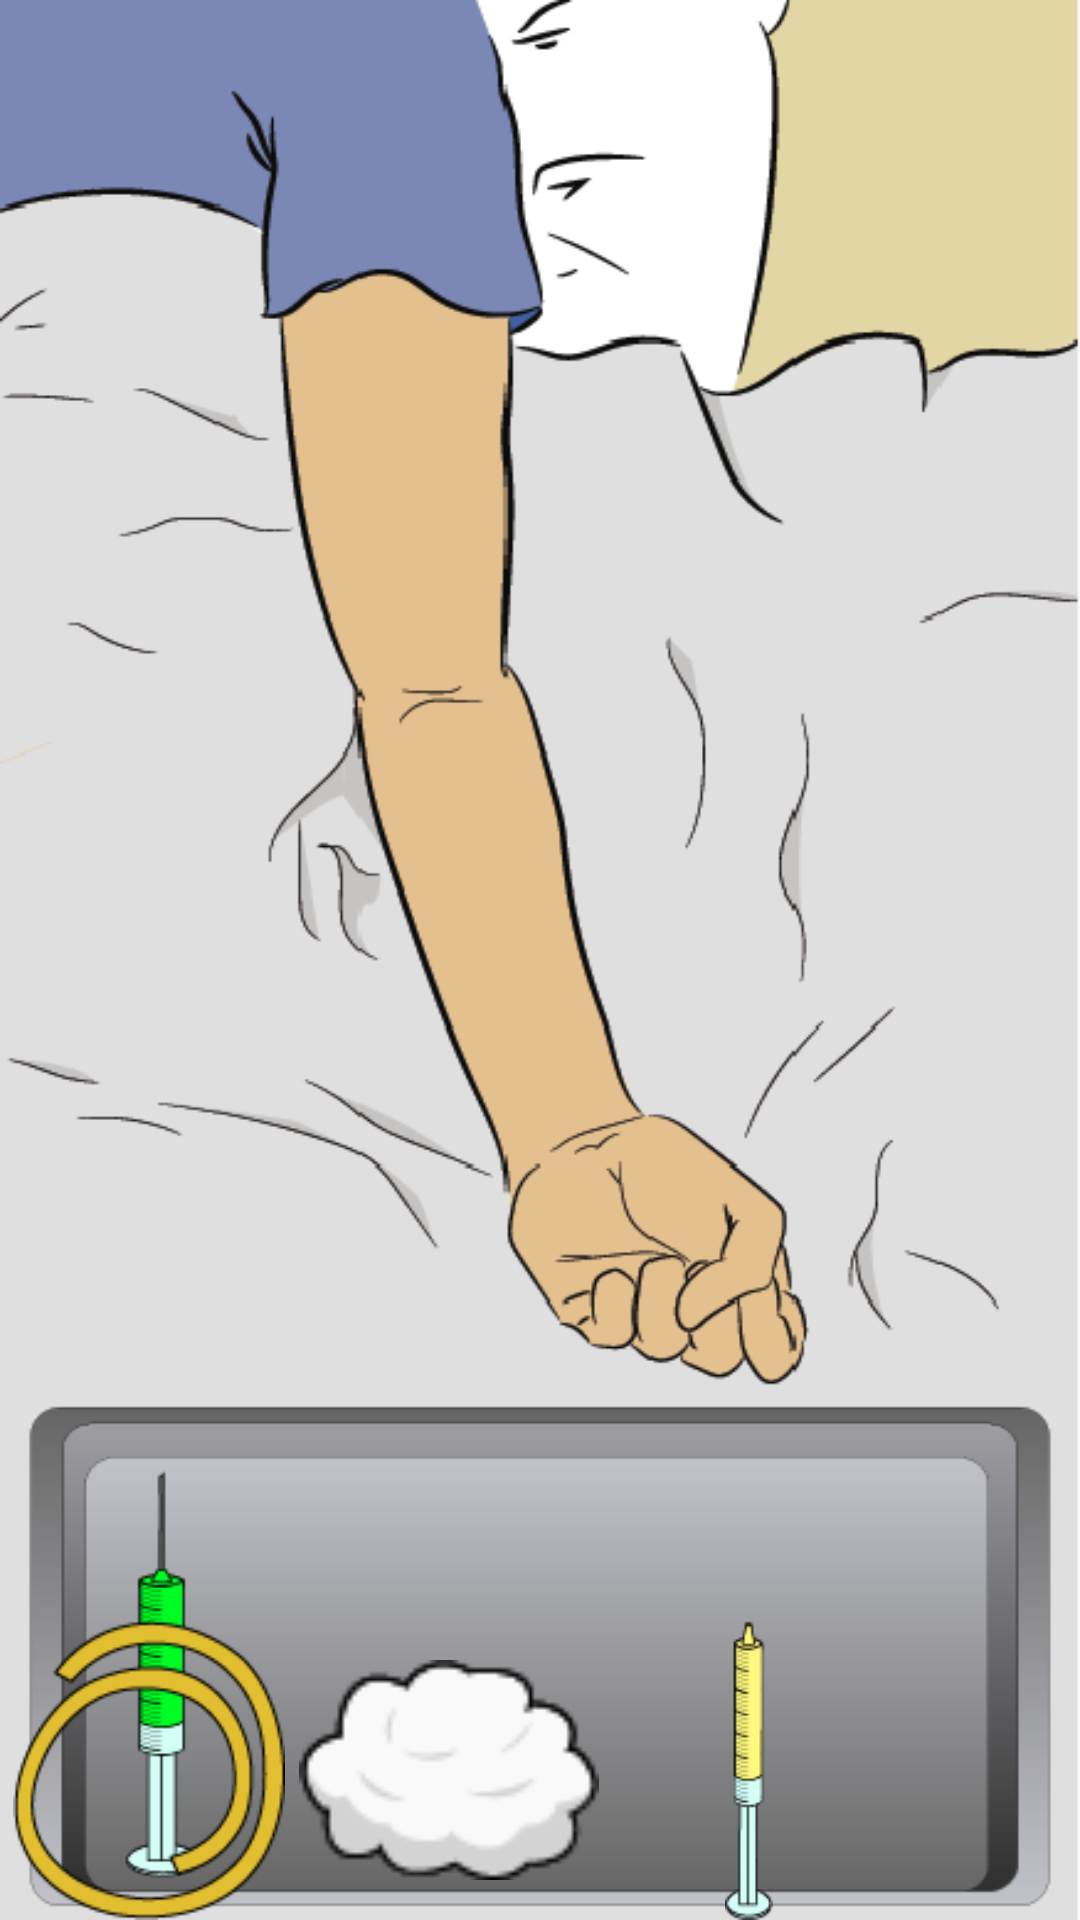

Icon click points for this 1080x1920 phone screenshot, format point (x, y):
algodao: point (449, 1770)
garrote: point (149, 1770)
